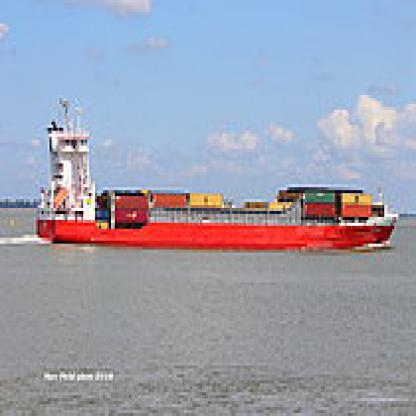Container Ship: (33, 95, 399, 251)
